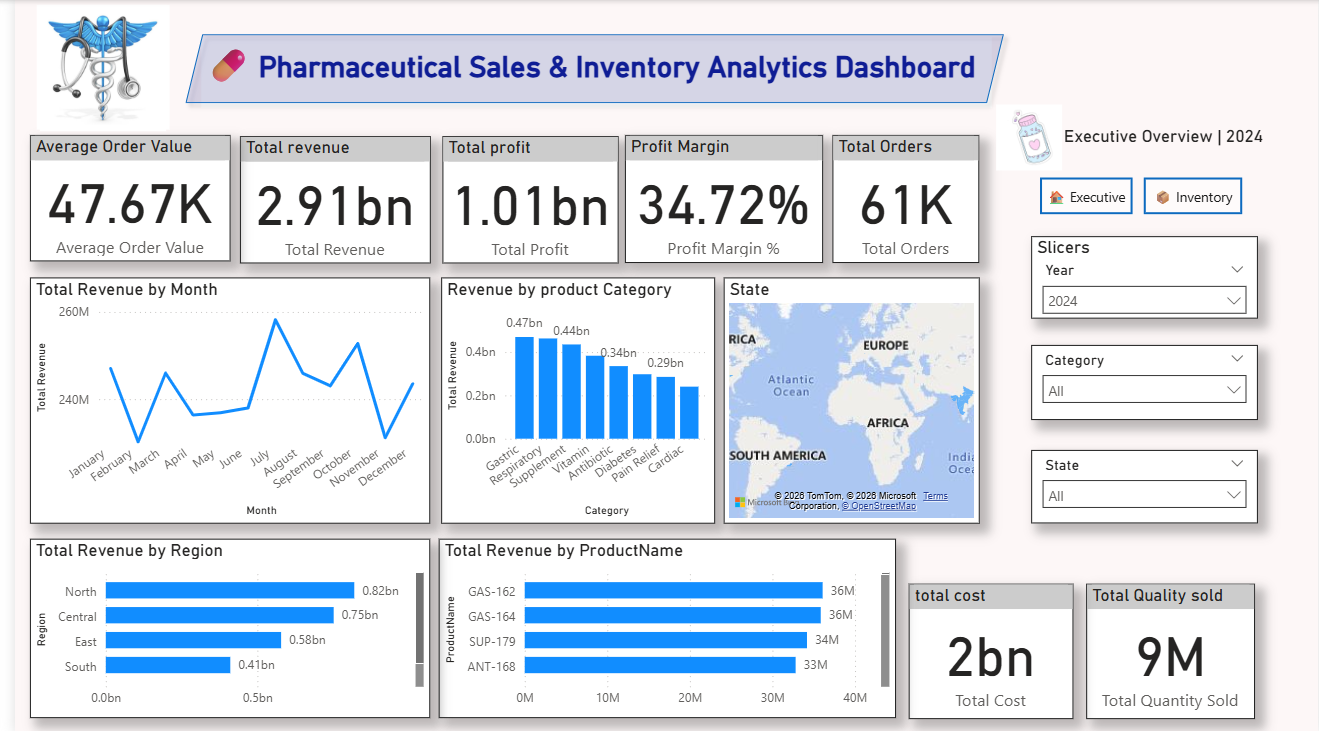

What the dashboard file says about the page in this screenshot:
{"tool":"powerbi","page":{"name":"Page 1","canvas":[1280,720],"ordinal":0},"visuals":[{"type":"card","title":"Total revenue","fields":{"Values":["Measures (3).Total Revenue"]},"box":[220.7,133.5,186.9,124.6],"z":0},{"type":"card","title":"Total Quality sold","fields":{"Values":["Measures (3).Total Quantity Sold"]},"box":[1051.4,572.9,165.7,132.9],"z":1000},{"type":"card","title":"Total profit","fields":{"Values":["Measures (3).Total Profit"]},"box":[420,133.5,172.6,124.6],"z":2000},{"type":"card","title":"Profit Margin ","fields":{"Values":["Measures (3).Profit Margin %"]},"box":[598.6,132.9,194.3,125.7],"z":3000},{"type":"card","title":"total cost","fields":{"Values":["Measures (3).Total Cost"]},"box":[877.1,572.9,161.4,132.9],"z":4000},{"type":"card","title":"Average Order Value","fields":{"Values":["Measures (3).Average Order Value"]},"box":[14.3,132.9,197.1,124.3],"z":5000},{"type":"card","title":"Total Orders","fields":{"Values":["Measures (3).Total Orders"]},"box":[802.9,132.9,144.3,125.7],"z":6000},{"type":"textbox","box":[182.9,37.1,775.7,68.6],"z":7000},{"type":"shape","box":[158.6,24.3,821.4,85.7],"z":8000},{"type":"lineChart","fields":{"Y":["Measures (3).Total Revenue"],"Category":["DateTable.Month"]},"box":[14.3,272.9,392.9,241.4],"z":9000},{"type":"clusteredColumnChart","title":"Revenue by product Category","fields":{"Y":["Measures (3).Total Revenue"],"Category":["Products.Category"]},"box":[418.6,272.9,268.6,241.4],"z":10000},{"type":"filledMap","fields":{"Category":["Customers.State"]},"box":[695.7,272.9,251.4,241.4],"z":11000},{"type":"clusteredBarChart","fields":{"Y":["Measures (3).Total Revenue"],"Category":["Products.ProductName"]},"box":[415.7,528.6,448.6,175.7],"z":12000},{"type":"clusteredBarChart","fields":{"Y":["Measures (3).Total Revenue"],"Category":["SalesRep.Region"]},"box":[14.3,528.6,392.9,175.7],"z":13000},{"type":"slicer","title":"Slicers","fields":{"Values":["DateTable.Year"]},"box":[996.9,232.3,222.2,80.8],"z":14000},{"type":"slicer","fields":{"Values":["Products.Category"]},"box":[996.9,339,222.2,73.6],"z":15000},{"type":"slicer","fields":{"Values":["Customers.State"]},"box":[996.9,441.5,222.2,72.1],"z":16000},{"type":"card","fields":{"Values":["Measures (3).Measure"]},"box":[966.7,115.4,282.8,37.5],"z":18000},{"type":"actionButton","box":[1005.6,174.6,90.9,36.1],"z":19000},{"type":"actionButton","title":"📦 Inventory","box":[1108,174.6,96.7,36.1],"z":20000}]}

Visuals, with their boxes in screenshot pixels (x1, y1, x2, y2), scaled from the page's 1280x720 canvas onto the 1319x731 screenshot:
"Total revenue" card: bbox(227, 136, 420, 262)
"Total Quality sold" card: bbox(1083, 582, 1254, 717)
"Total profit" card: bbox(433, 136, 611, 262)
"Profit Margin " card: bbox(617, 135, 817, 263)
"total cost" card: bbox(904, 582, 1070, 717)
"Average Order Value" card: bbox(15, 135, 218, 261)
"Total Orders" card: bbox(827, 135, 976, 263)
textbox: bbox(188, 38, 988, 107)
shape: bbox(163, 25, 1010, 112)
lineChart - Measures (3).Total Revenue x DateTable.Month: bbox(15, 277, 420, 522)
"Revenue by product Category" clusteredColumnChart: bbox(431, 277, 708, 522)
filledMap - Customers.State: bbox(717, 277, 976, 522)
clusteredBarChart - Measures (3).Total Revenue x Products.ProductName: bbox(428, 537, 891, 715)
clusteredBarChart - Measures (3).Total Revenue x SalesRep.Region: bbox(15, 537, 420, 715)
"Slicers" slicer: bbox(1027, 236, 1256, 318)
slicer - Products.Category: bbox(1027, 344, 1256, 419)
slicer - Customers.State: bbox(1027, 448, 1256, 521)
card - Measures (3).Measure: bbox(996, 117, 1288, 155)
actionButton: bbox(1036, 177, 1130, 214)
"📦 Inventory" actionButton: bbox(1142, 177, 1241, 214)
